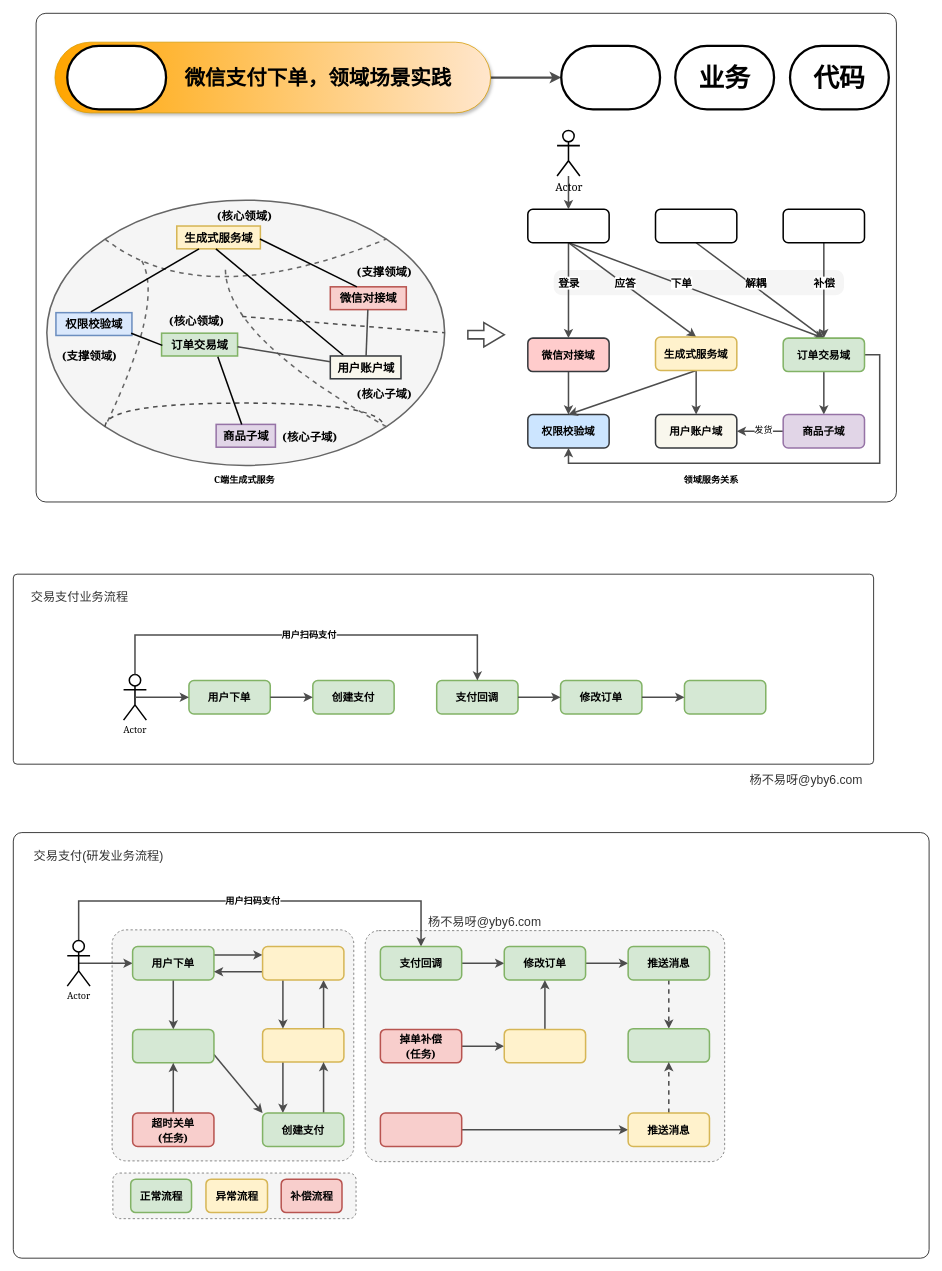
Some shapes in this 942 by 1271 pixel diagram are drawn without their labels. Each missing label, with the centre of its shape:
DDD: the point at 116,77
HTTP: the point at 568,225
JOB: the point at 823,225
MQ: the point at 695,225
创建订单: the point at 172,1045
商品发货: the point at 724,696
存在未支付订单 (有pay_url): the point at 302,962
存在订单无支付 (无pay_url): the point at 302,1045
接收发货: the point at 668,1045
支付记录 (微信): the point at 544,1045
架构: the point at 610,77
补货消息 (任务): the point at 420,1129
